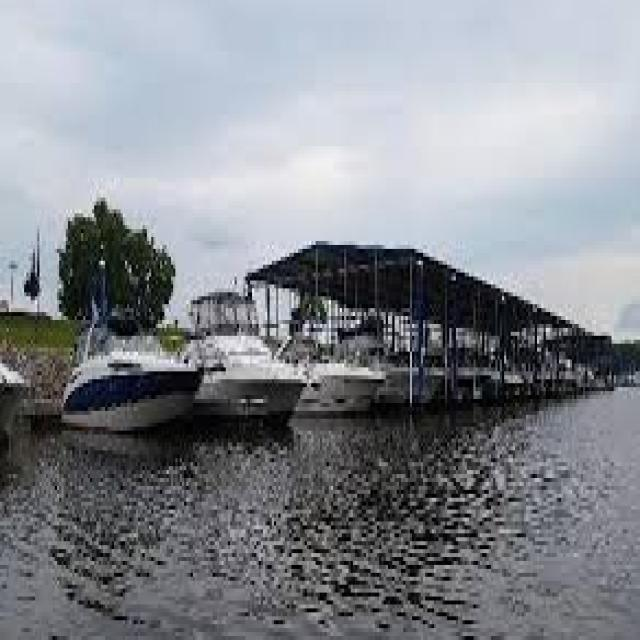houseboat: (47, 282, 207, 445), (184, 268, 302, 420), (282, 248, 391, 410)
